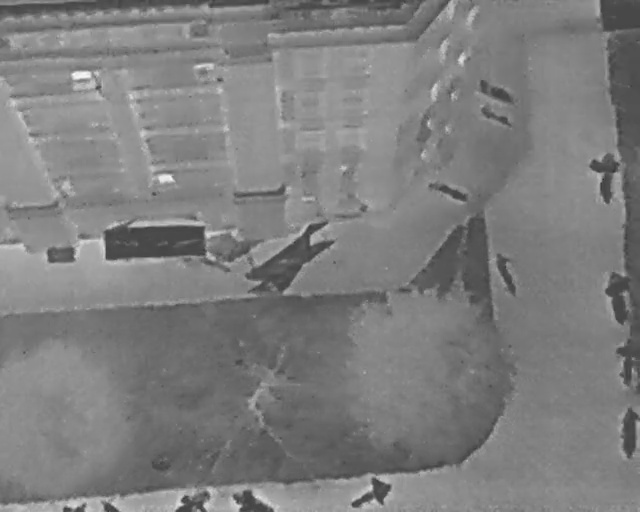Bicycle: (486, 243, 529, 301), (342, 469, 398, 510), (600, 266, 638, 326), (588, 147, 619, 207), (473, 74, 522, 109), (424, 174, 473, 208), (474, 100, 518, 131), (230, 487, 279, 510), (618, 406, 639, 459), (615, 336, 636, 386), (174, 487, 211, 510), (61, 496, 89, 510), (100, 496, 121, 510)
